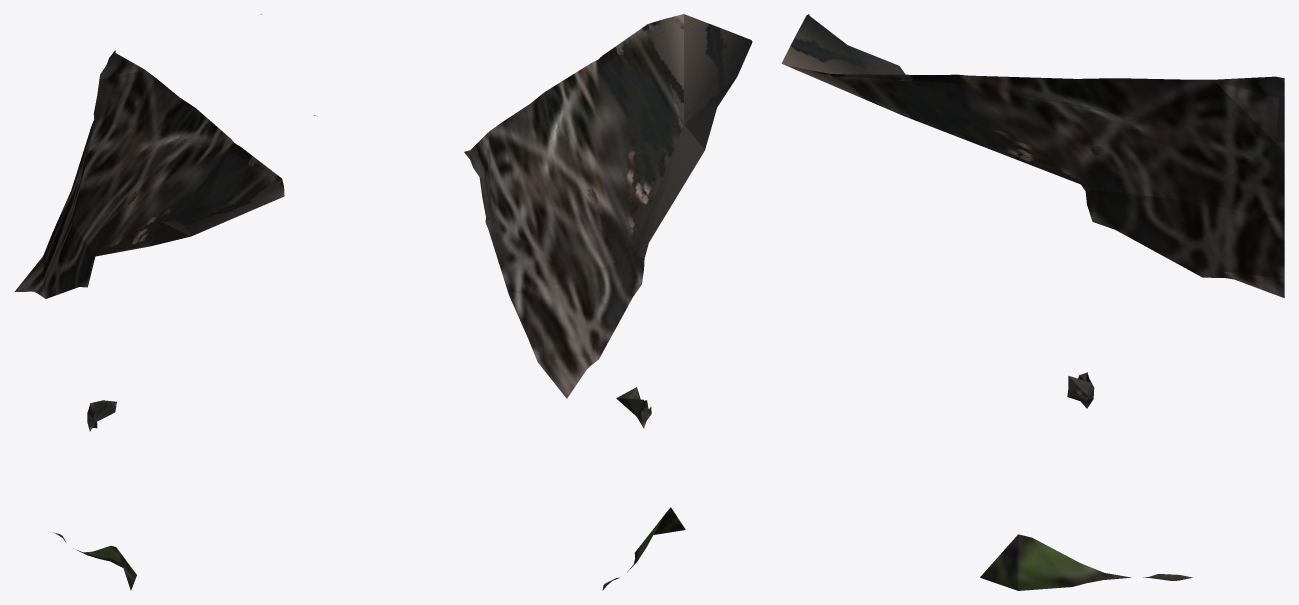
The picture shows the model from 3 angles, left to right: view 1: azimuth 30°, elevation 25°; view 2: azimuth 150°, elevation 25°; view 3: azimuth 270°, elevation 25°; orthographic projection. The views are drawn at different scales.
Bounding box in the file's own units: 0.5049 × 0.8374 × 0.6773.
Materials: 1 (1 with a texture image).
